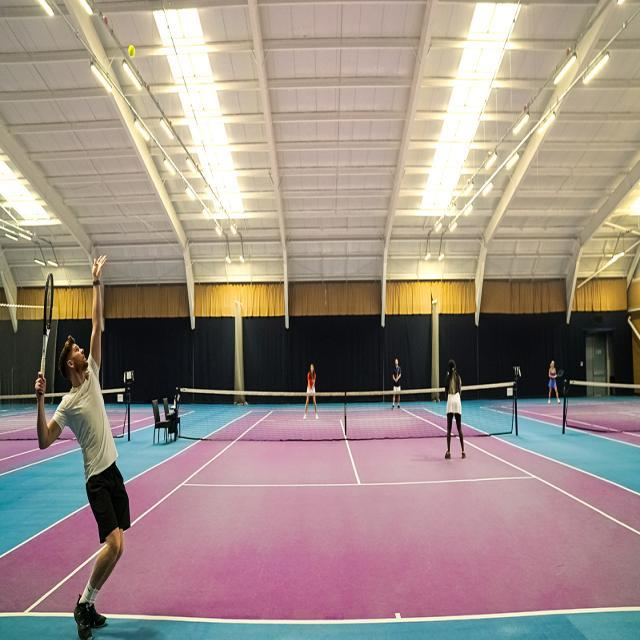ankle: (80, 608, 85, 615), (89, 608, 92, 612)
court: (0, 424, 640, 638)
elbow: (95, 324, 100, 328), (44, 436, 48, 440)
eye: (73, 346, 78, 353)
hand: (95, 268, 100, 272), (40, 386, 43, 390)
hip: (93, 473, 99, 478), (109, 463, 115, 468)
knee: (110, 543, 116, 545), (118, 548, 123, 550)
net: (164, 374, 530, 440)
player: (31, 241, 131, 640), (439, 355, 470, 463)
shoulder: (65, 404, 69, 410), (90, 366, 93, 371)
tennis ball: (128, 44, 135, 57)
tennis racket: (40, 274, 54, 374)
